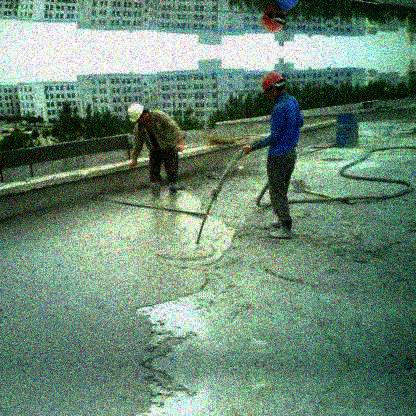helmet: (260, 3, 286, 32), (260, 73, 286, 100), (126, 103, 150, 125)
